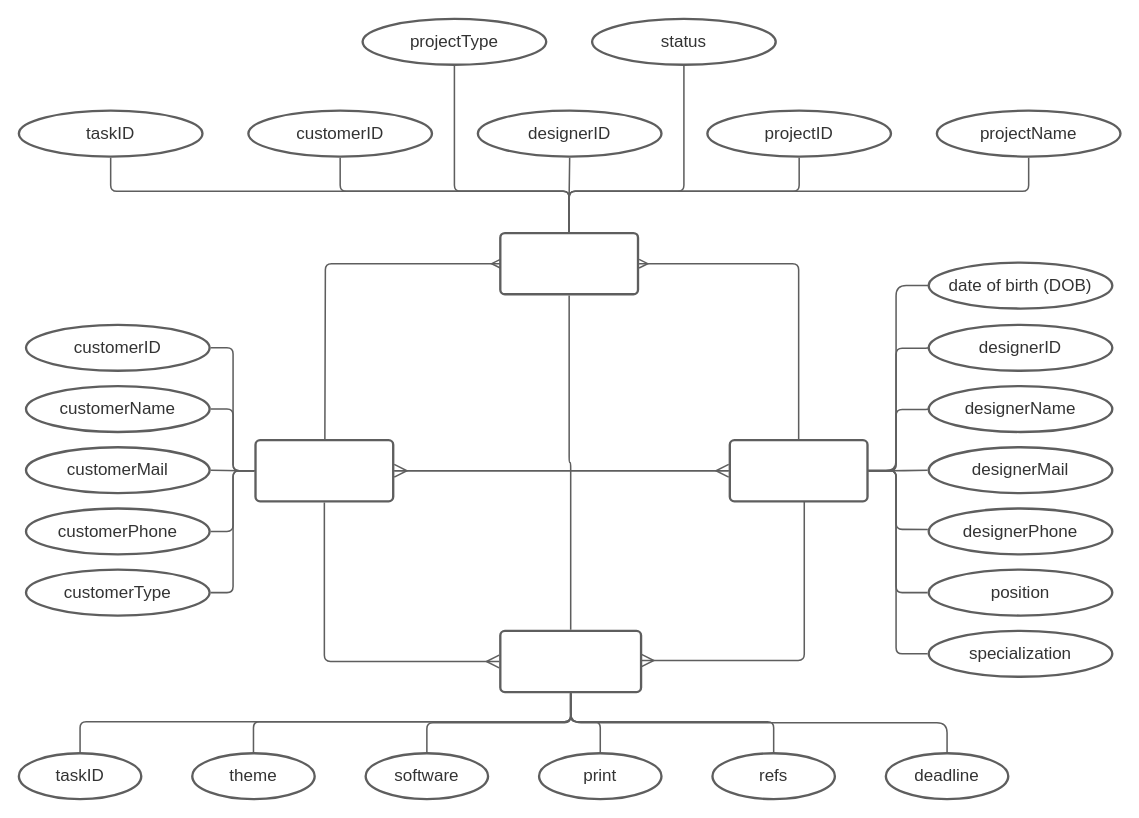
Some shapes in this 1139 by 818 pixel diagram are drawn without their labels. The shapes that lost their labels are listed below. From the top down, each one's centre as x and y in pixels, then its label:
At [569,263]: "projects".
At [324,470]: "customers".
At [798,470]: "designers".
At [570,661]: "techtasks".
